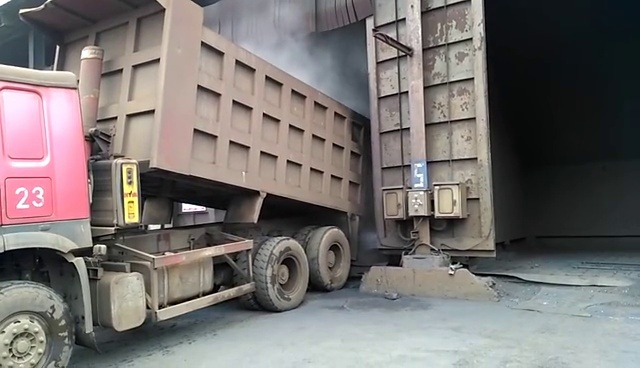dust: (229, 4, 372, 119)
truck: (0, 12, 368, 368)
